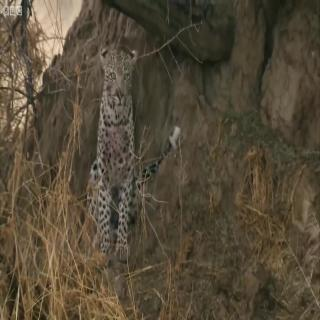Leopard: (69, 19, 167, 261)
